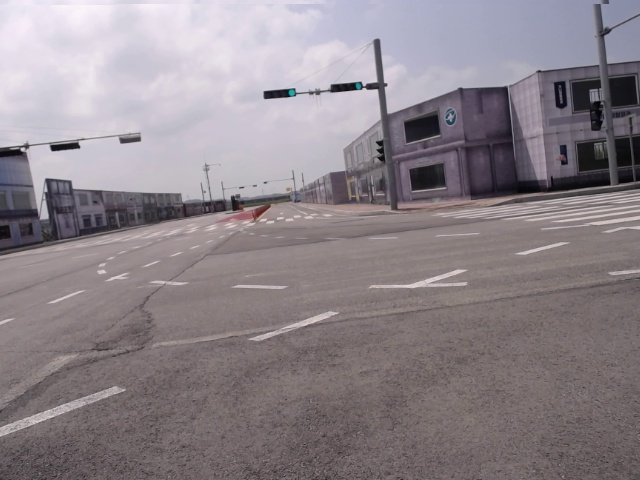straight_green_4: (331, 81, 362, 94), (264, 89, 296, 99)
